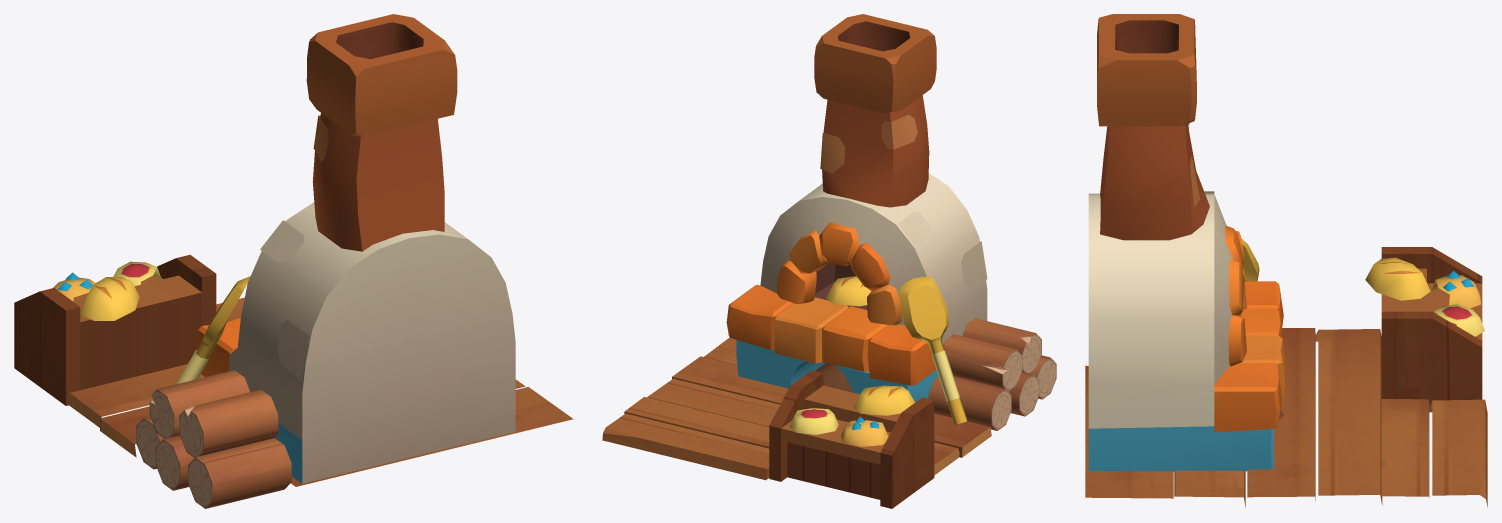
The model's file is B_Bakery.fbx.
3 renders of one model, left to right at view 1: azimuth 30°, elevation 25°; view 2: azimuth 150°, elevation 25°; view 3: azimuth 270°, elevation 25°, orthographic. The views are drawn at different scales.
Parts seen in each view (by area): view 1: B_Bakery; view 2: B_Bakery; view 3: B_Bakery.
Boxes of the visible parts, x1,y1,x2,y2 form: B_Bakery: (14,14,573,508); B_Bakery: (602,14,1056,508); B_Bakery: (1085,14,1487,507).
Bounding box in the file's own units: 4.08 × 4.37 × 4.03.
1 material, 1 textured.
